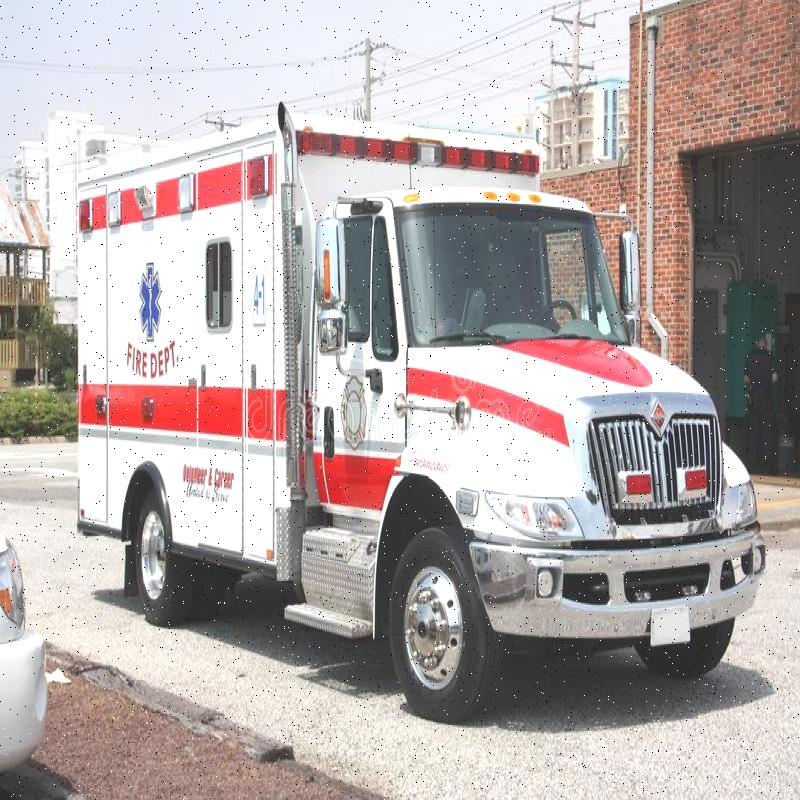ambulance: (53, 64, 768, 699)
